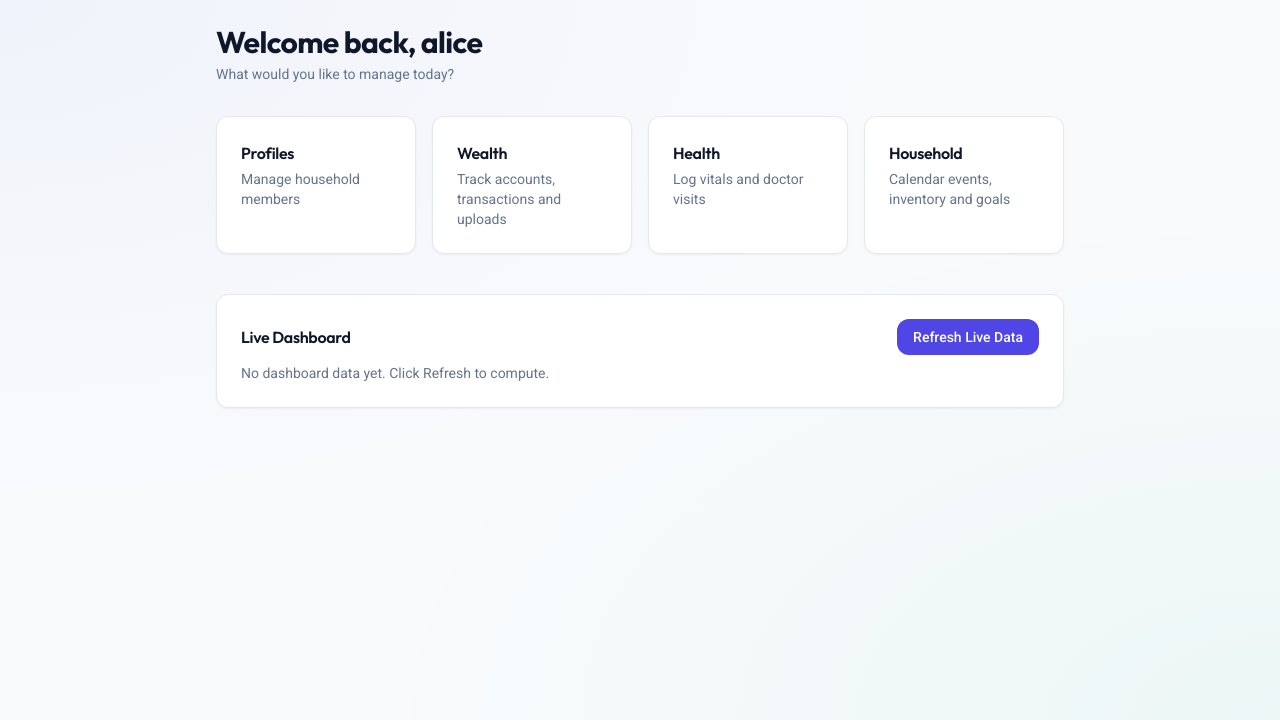
Test: Dashboard › shows fallback error text when refresh fails without error message
Click the button "Refresh Live Data" at (968, 337), box 897,319 -> 1039,355
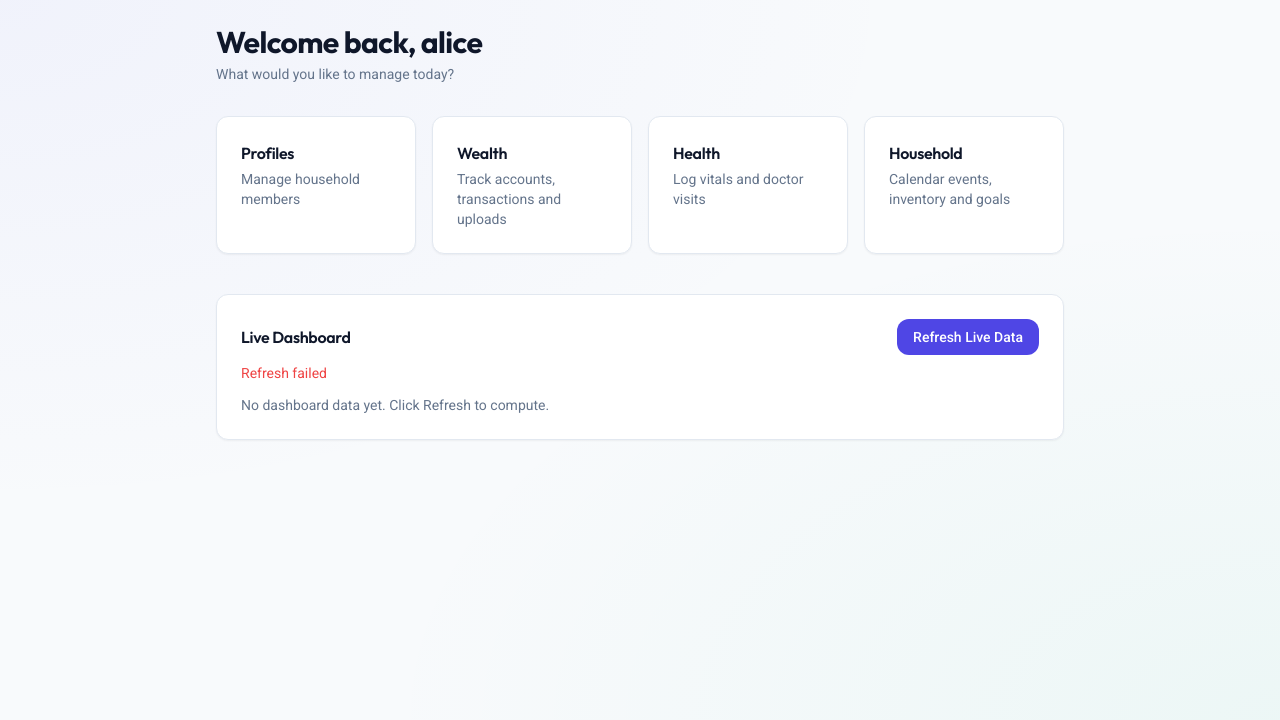
Expected: the text "Refresh failed" is shown, 241,365 -> 327,381
